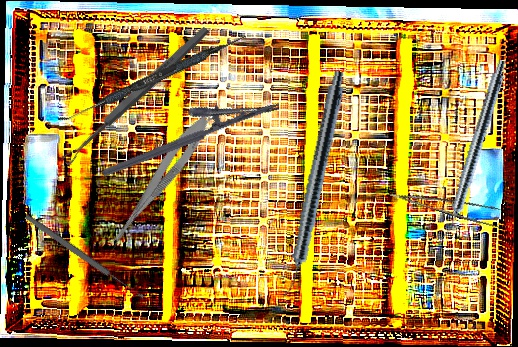Handpiece: (278, 68, 349, 300), (437, 57, 510, 244)
Micro Scissor: (103, 108, 217, 257)
Needle Holder: (92, 78, 281, 178)
Spatula Surgical: (57, 28, 248, 130)
Surgical Spoon: (59, 24, 212, 167), (23, 212, 146, 302)
Tissue Forceps: (389, 175, 508, 232)
